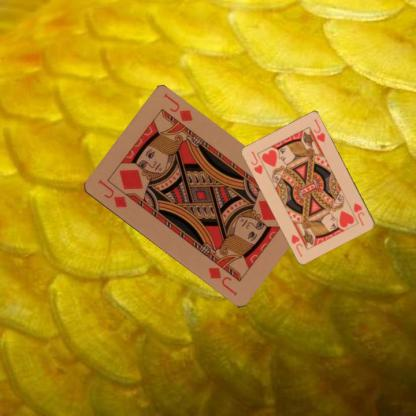Jd: (95, 177, 128, 210)
Jh: (248, 148, 264, 176), (352, 201, 366, 227)
